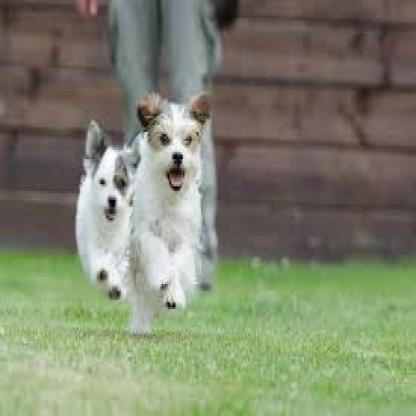dog: (127, 75, 224, 341), (66, 114, 132, 327)
